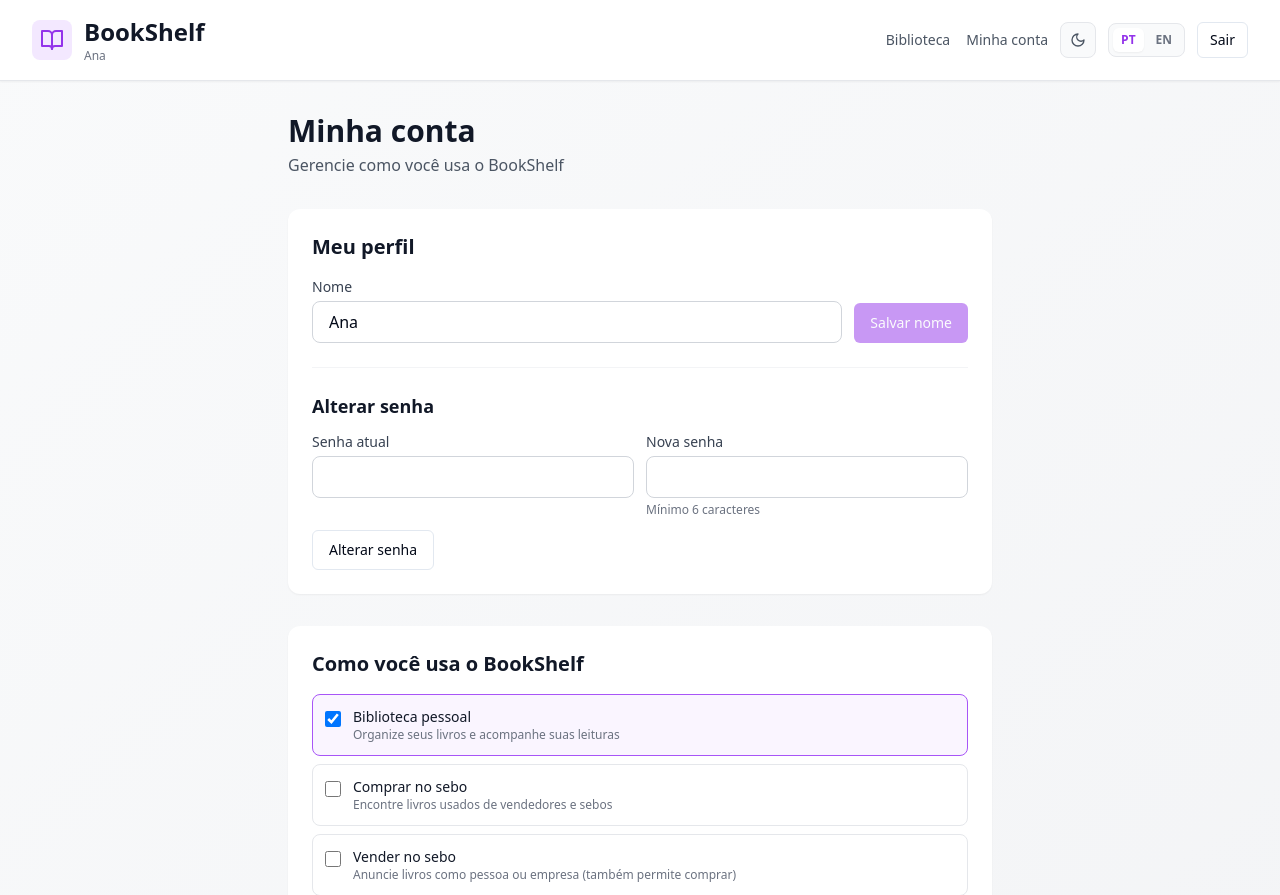
Scenario: AccountPage profile › shows the error when the name cannot be saved
Step 1. Type " Jr" into the field with test id "profile-name-input" → (577, 322), box x1=312 y1=301 x2=842 y2=343
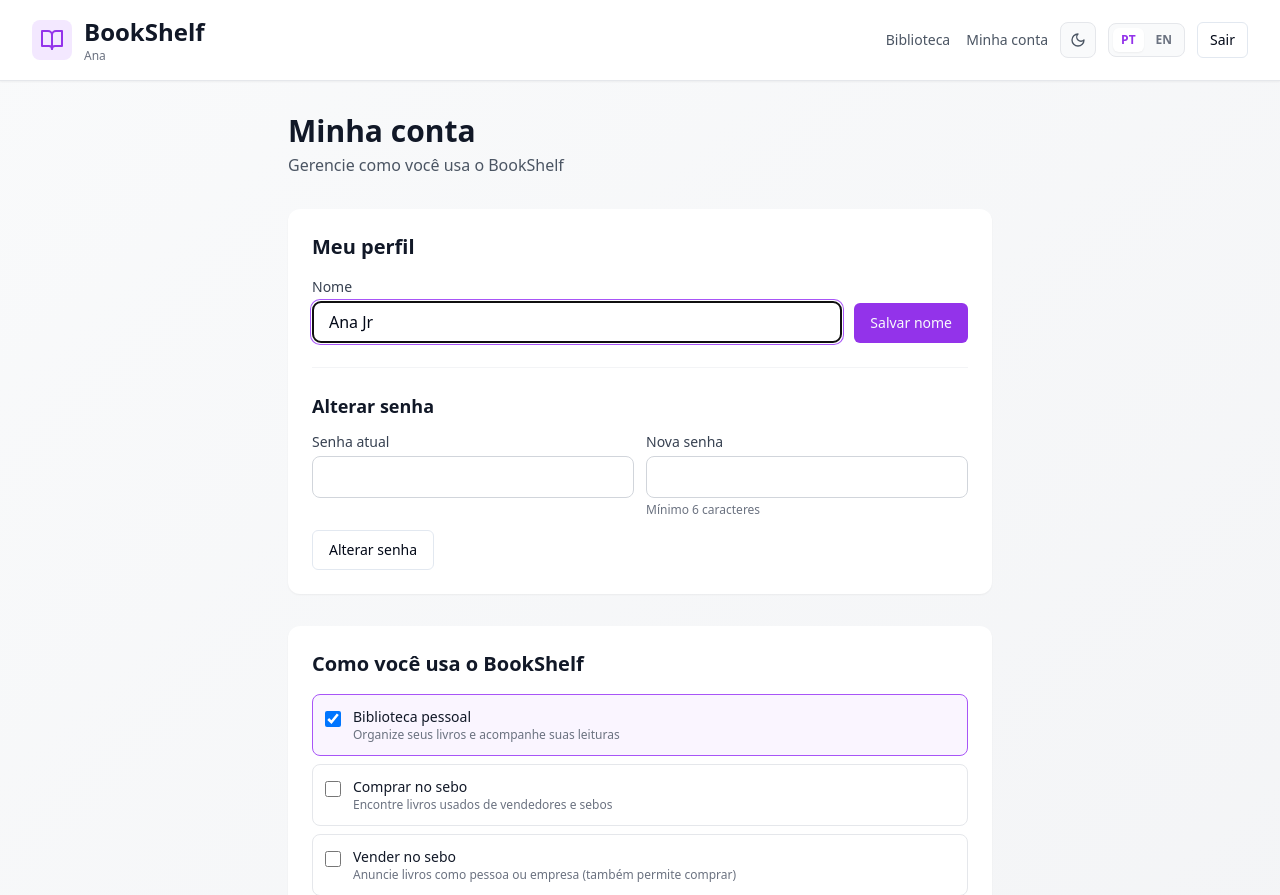
Step 2. Click the button with test id "profile-name-save" → (911, 323), box x1=854 y1=303 x2=968 y2=343
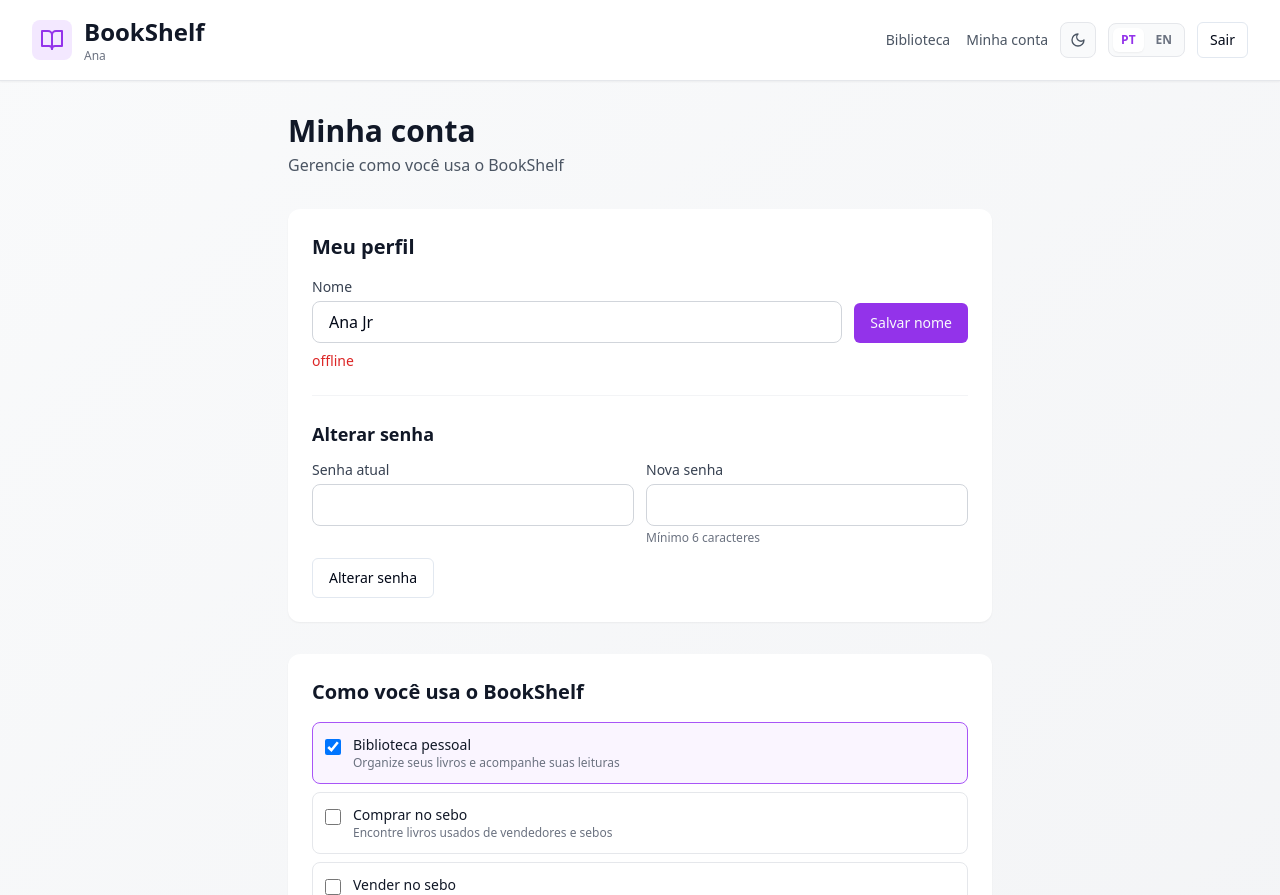
Result: the message with test id "profile-name-error" reads "offline" at x1=312 y1=351 x2=354 y2=370
